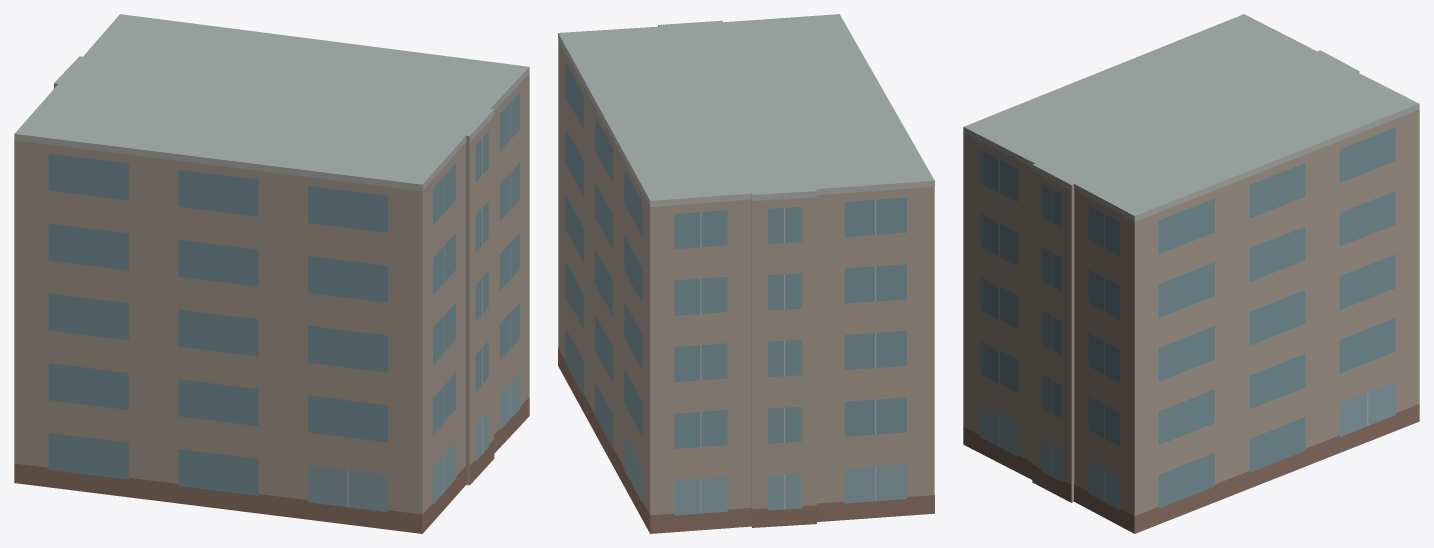
Rendered from survey-upis-32815267.glb.
3 renders of one model, left to right at view 1: azimuth 30°, elevation 25°; view 2: azimuth 150°, elevation 25°; view 3: azimuth 270°, elevation 25°, orthographic. The views are drawn at different scales.
Parts seen in each view (by area): view 1: survey-upis-32815267.tmp; view 2: survey-upis-32815267.tmp; view 3: survey-upis-32815267.tmp.
Boxes of the visible parts, <box> form: survey-upis-32815267.tmp: <box>14,14,529,533</box>; survey-upis-32815267.tmp: <box>558,14,934,533</box>; survey-upis-32815267.tmp: <box>963,14,1419,533</box>.
Size of the model in its own units: 18.29 by 13.4 by 17.44.
